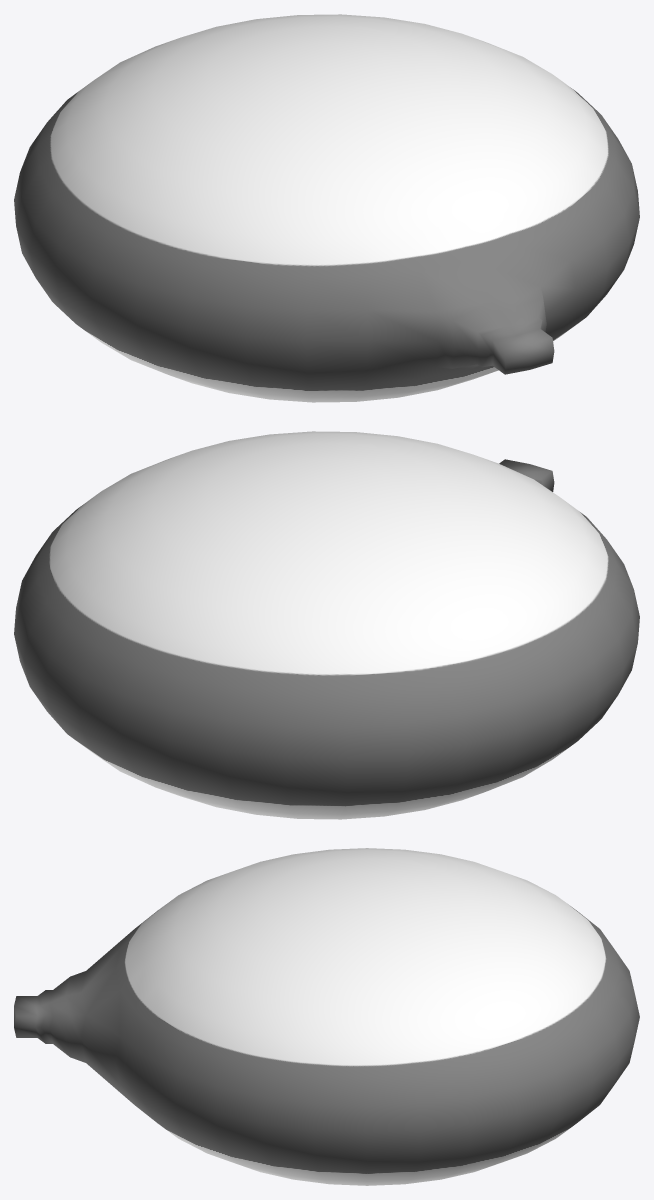
Rendered from Balloon.obj.
3 views of the same model, one above another, from view 1: azimuth 30°, elevation 25°; view 2: azimuth 150°, elevation 25°; view 3: azimuth 270°, elevation 25° (orthographic). The views are drawn at different scales.
Parts seen in each view (by area): view 1: Sphere; view 2: Sphere; view 3: Sphere.
Part boxes in pixels (x1,y1,x2,y2): Sphere: [14, 14, 639, 402]; Sphere: [14, 431, 639, 819]; Sphere: [14, 848, 639, 1185].
Size of the model in its own units: 100 by 50 by 115.
1 material, 1 textured.
